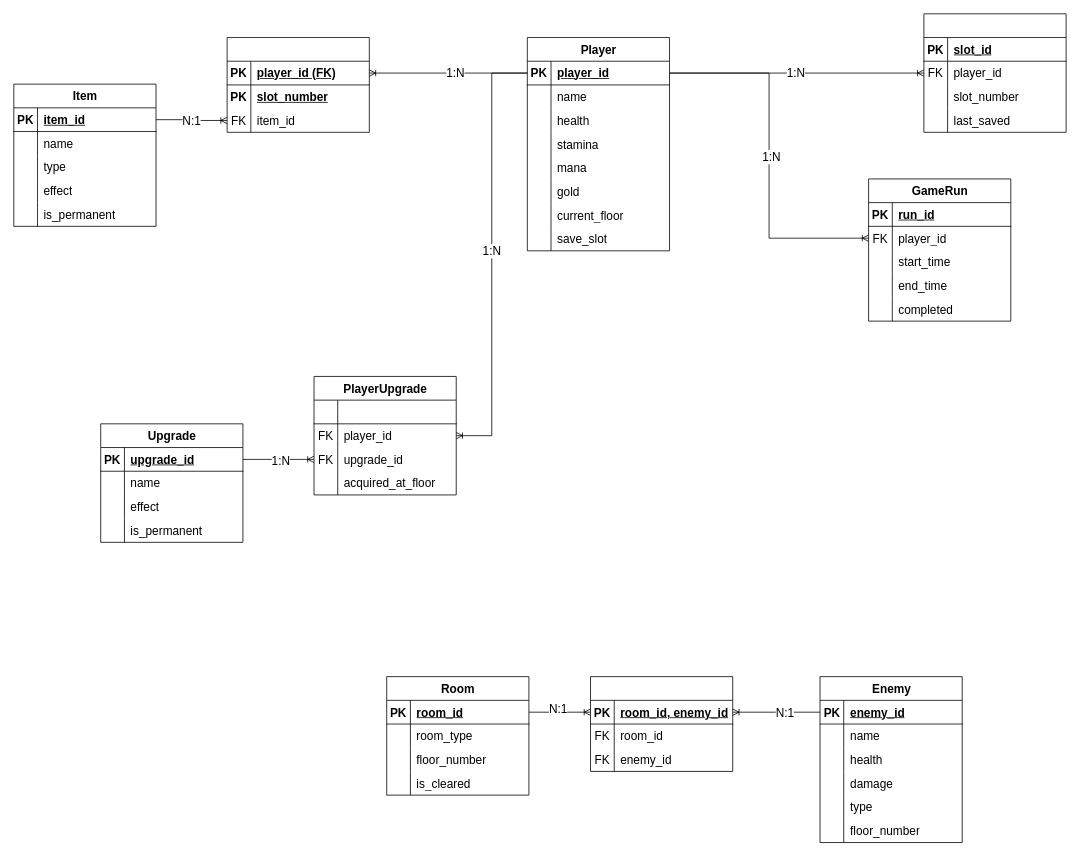
This 1080x856 diagram has some shape labels left out. Each missing label, with the box of its shape:
Inventory: (226, 37, 369, 132)
RoomEnemy: (590, 676, 733, 771)
SaveSlot: (923, 13, 1066, 132)
